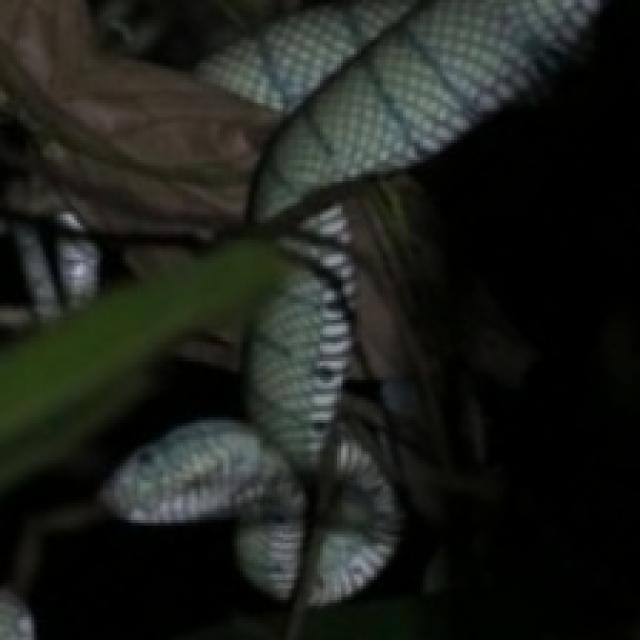north ph temple pitviper: (263, 0, 637, 637), (100, 206, 400, 603), (80, 520, 243, 611)
